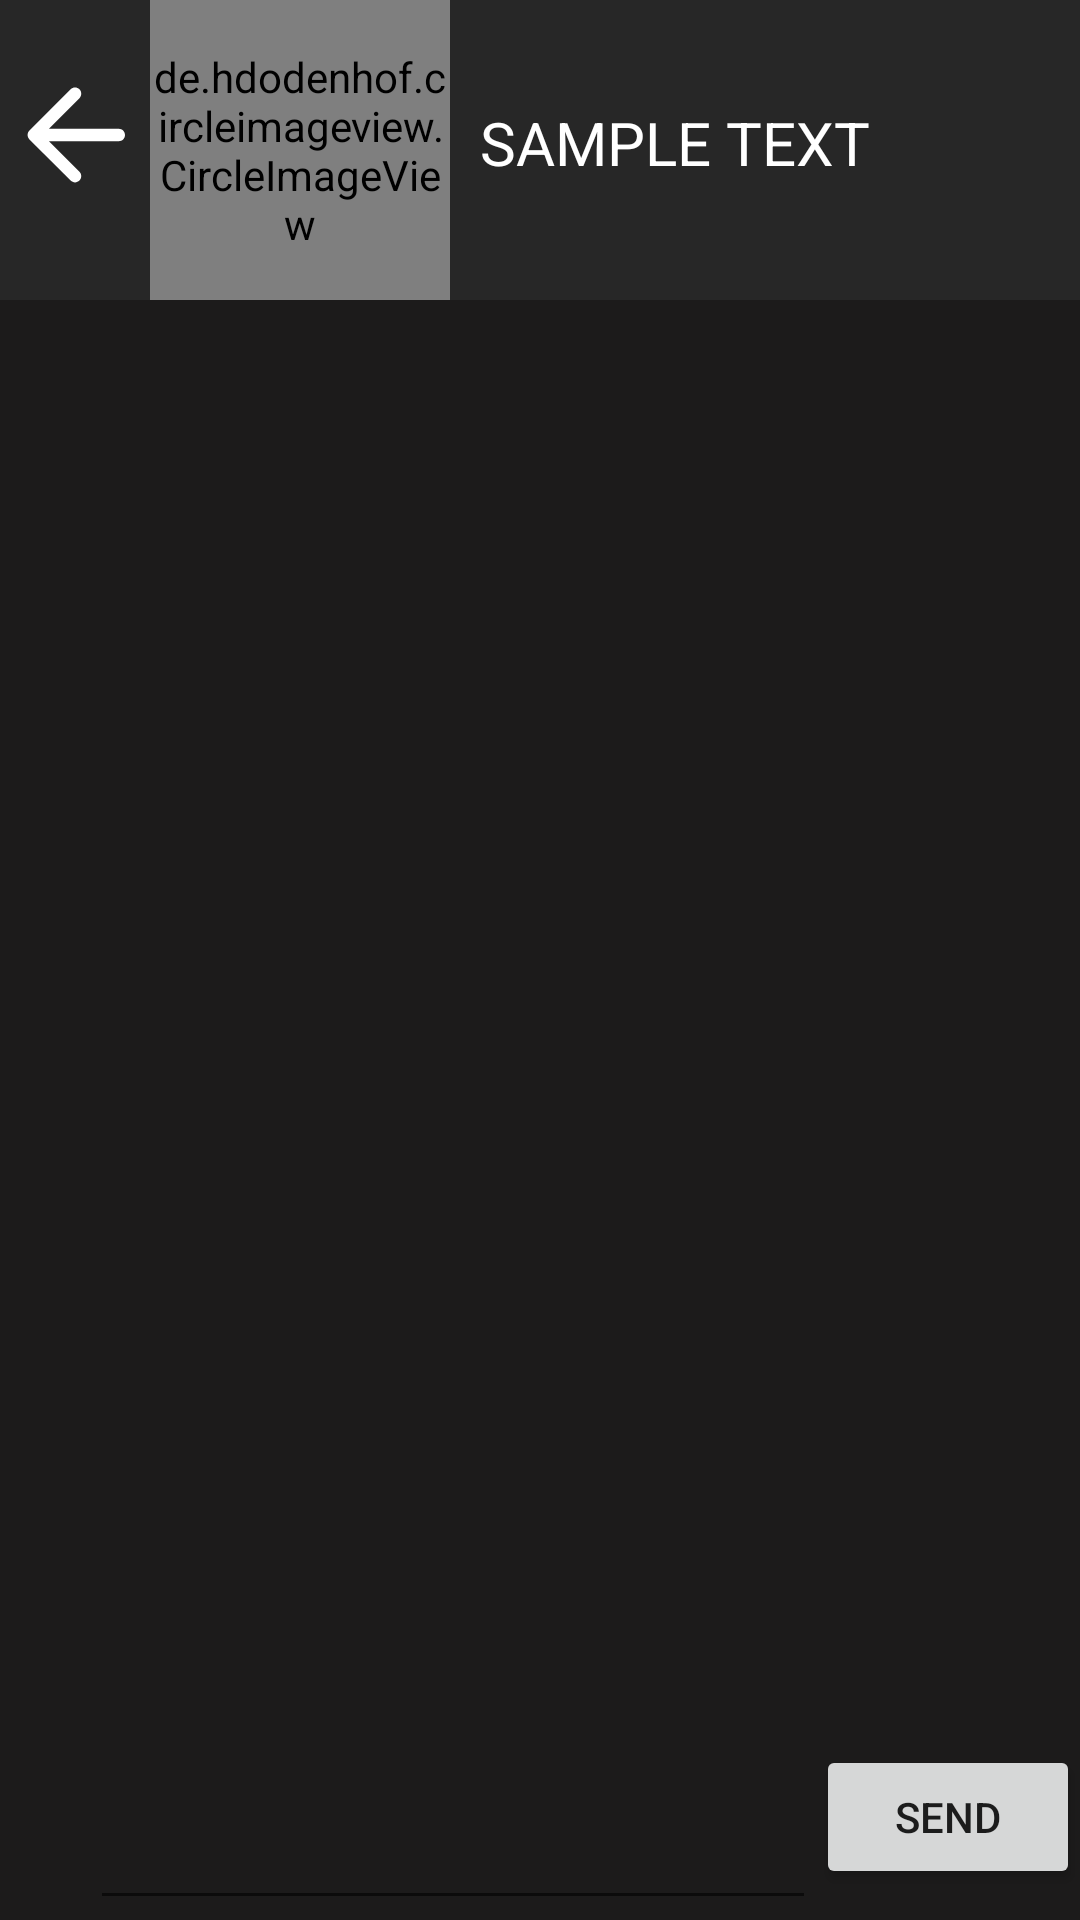

Named icons in this screenshot (1080×1920) and their centers, [x,y]:
arrow back: [76,135]
